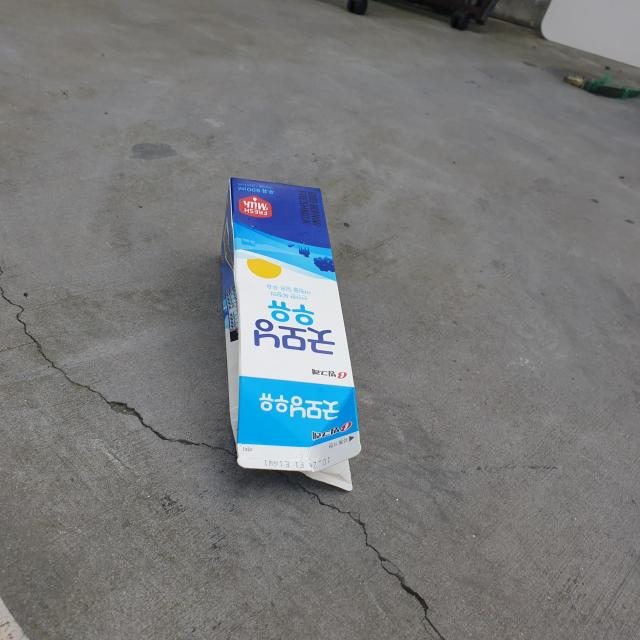paperpack: (221, 178, 361, 492)
